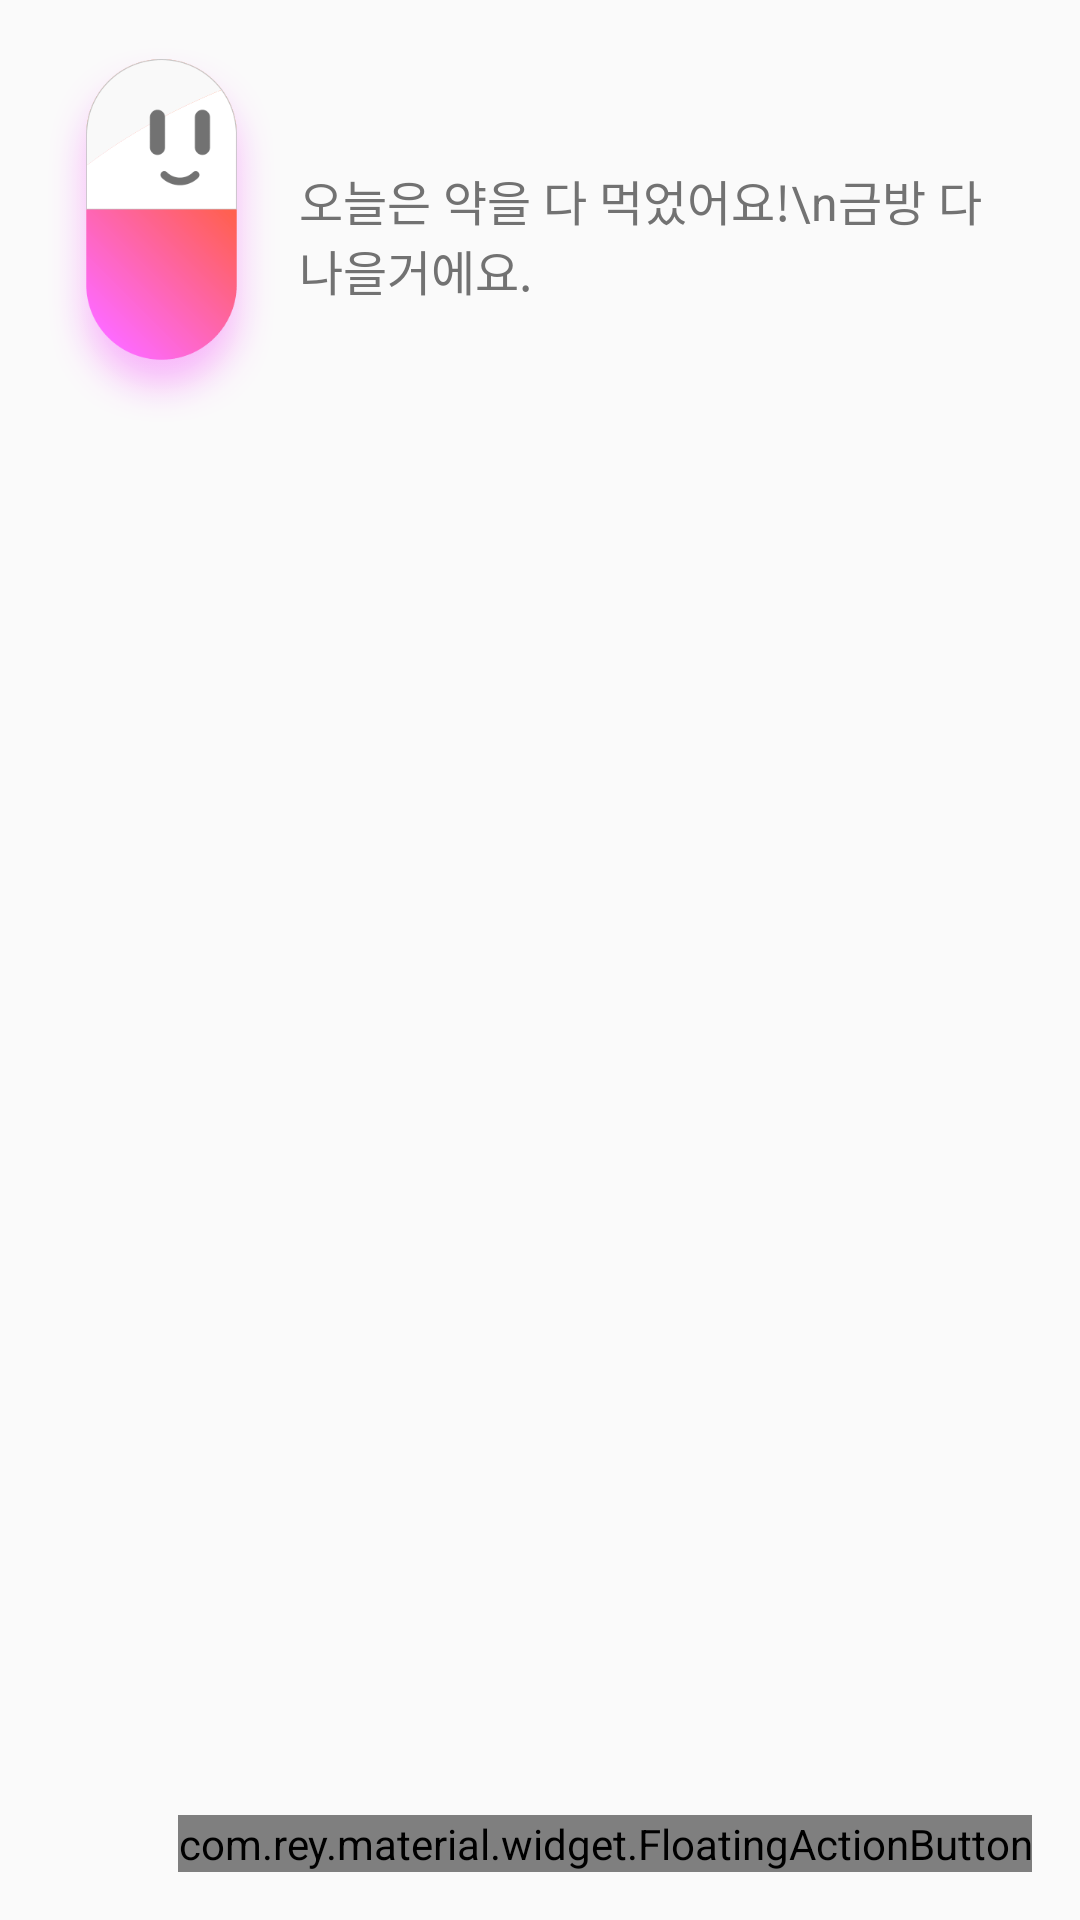

Named icons in this screenshot (1080x1920) and their centers, (x,y):
pic home char: (161,224)
